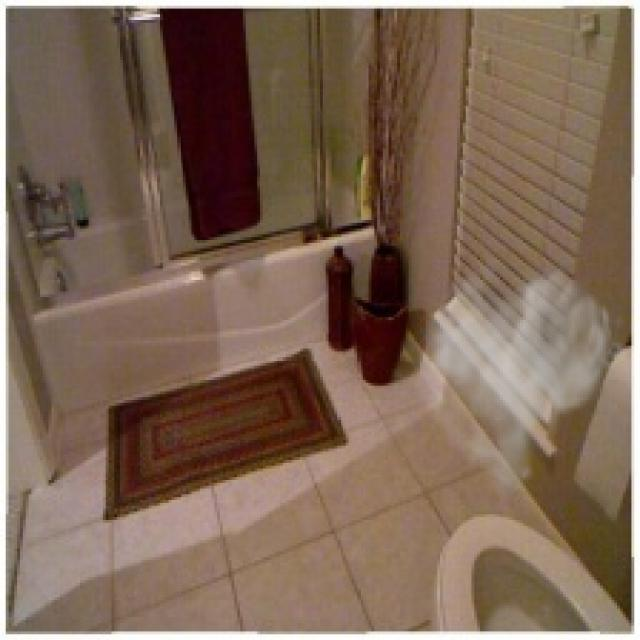Smoke: (417, 243, 629, 508)
